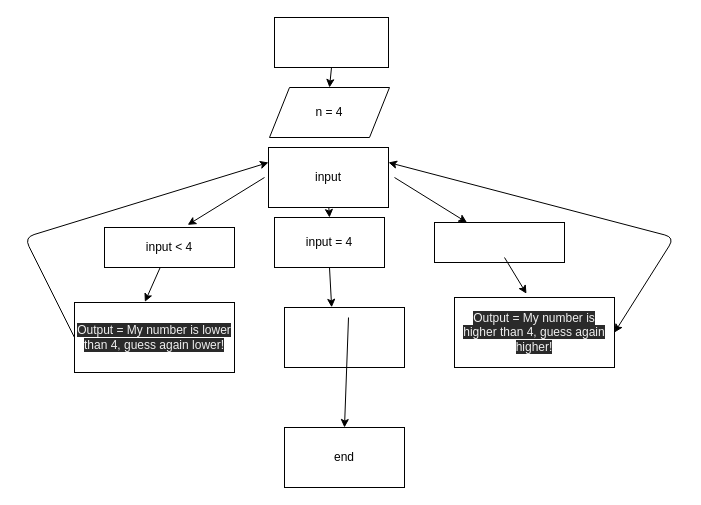
Some shapes in this 701 by 505 pixel diagram are drawn without their labels. The box of each missing label's shape, as (x1, y1, x2, y2) in pixels:
input > 4: (434, 222, 564, 262)
start: (274, 16, 388, 68)
You are correct - the random number is 4! :): (284, 306, 404, 368)
